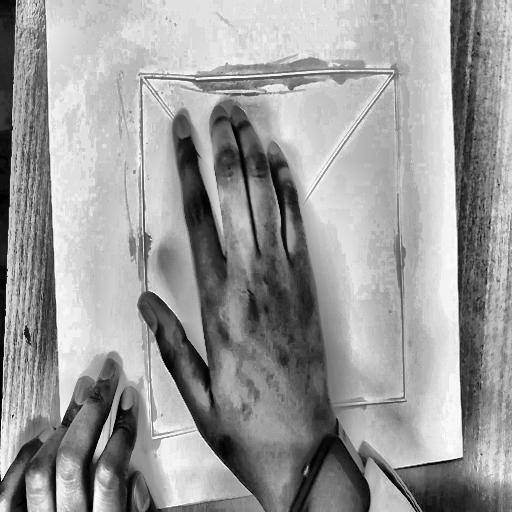bottom_right: (458, 447, 468, 464)
envelop: (133, 57, 413, 452)
